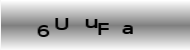6: (37, 24, 50, 37)
F: (97, 21, 109, 36)
U: (53, 16, 68, 30)
a: (122, 23, 134, 35)
u: (85, 17, 97, 28)
